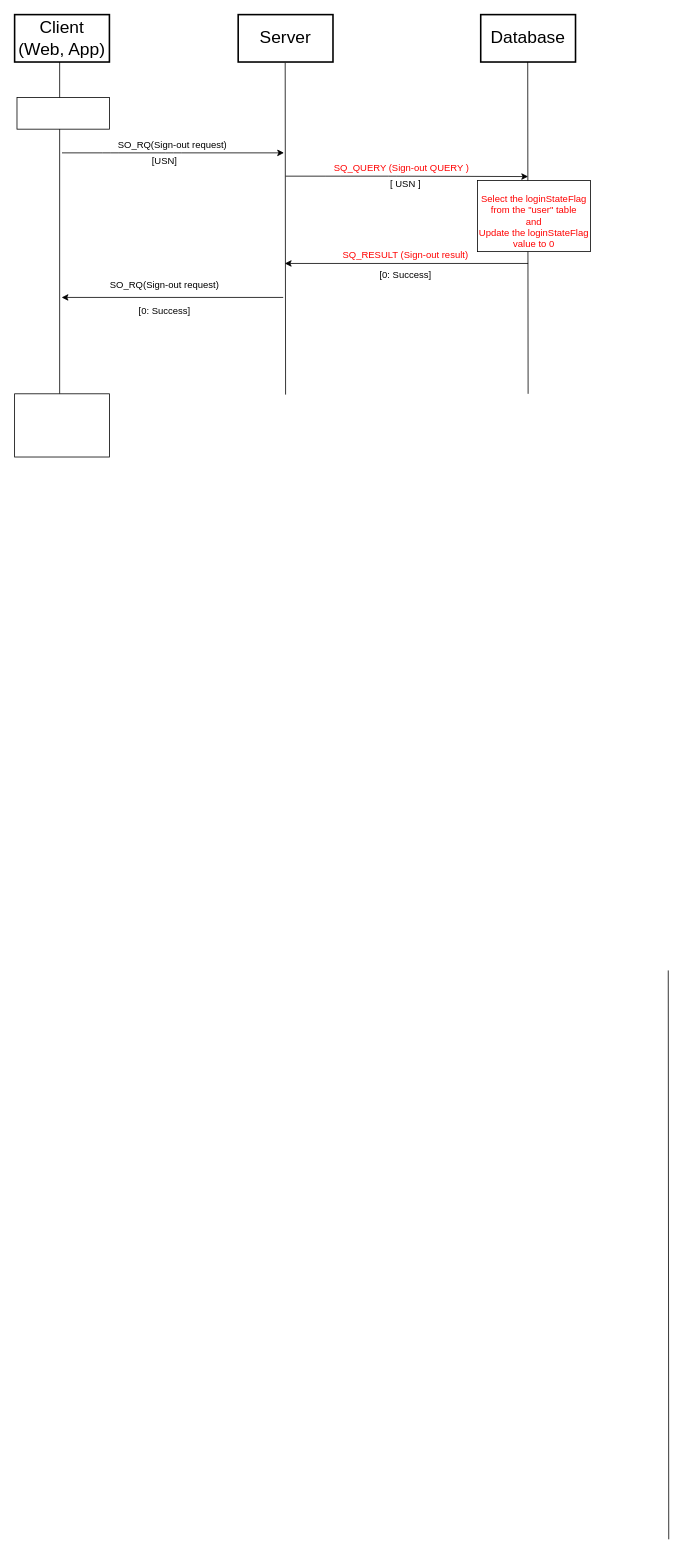
This 683x1554 diagram has some shape labels left out. Each missing label, with the centre of its shape:
"Show the massage that the log-out has been completed" goes at (x=61, y=425).
"Sign-out request" goes at (x=62, y=113).
